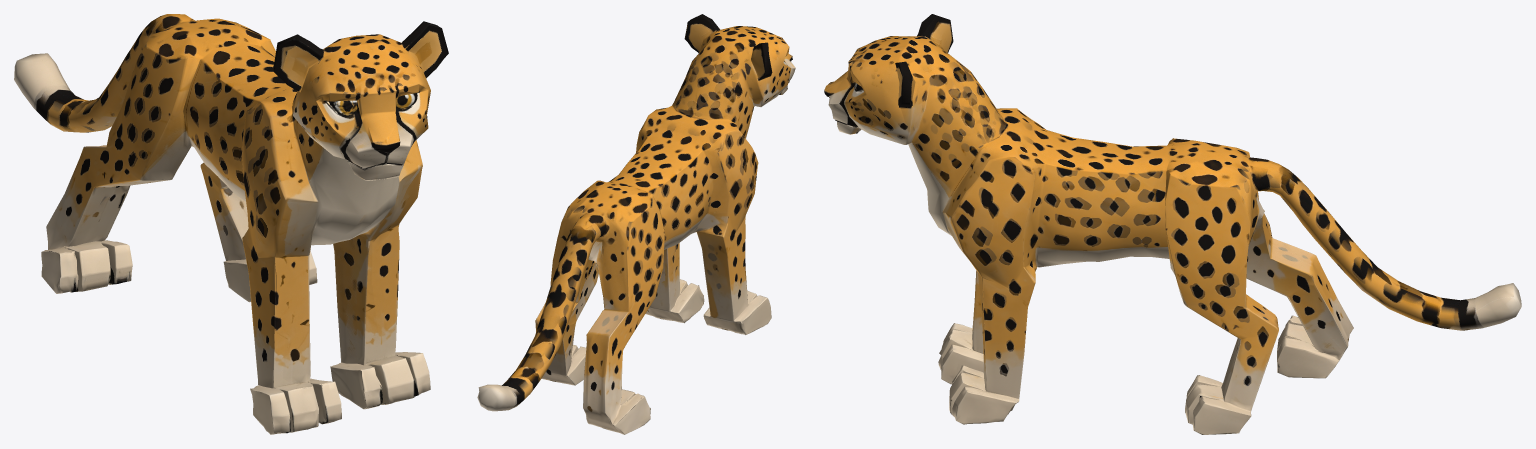
File: creature_cheetah_forge.glb
The picture shows the model from 3 angles, left to right: view 1: azimuth 30°, elevation 25°; view 2: azimuth 150°, elevation 25°; view 3: azimuth 270°, elevation 25°; orthographic projection. The views are drawn at different scales.
Size of the model in its own units: 0.2793 by 0.5225 by 0.9463.
Materials: 1 (1 with a texture image).
